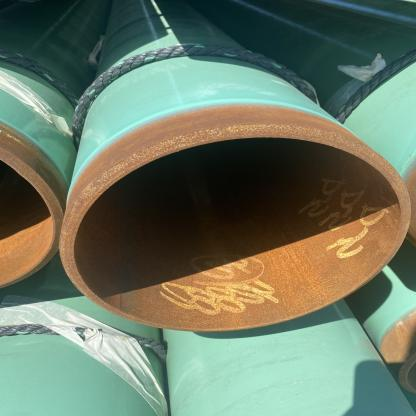clean: (186, 106, 259, 172)
